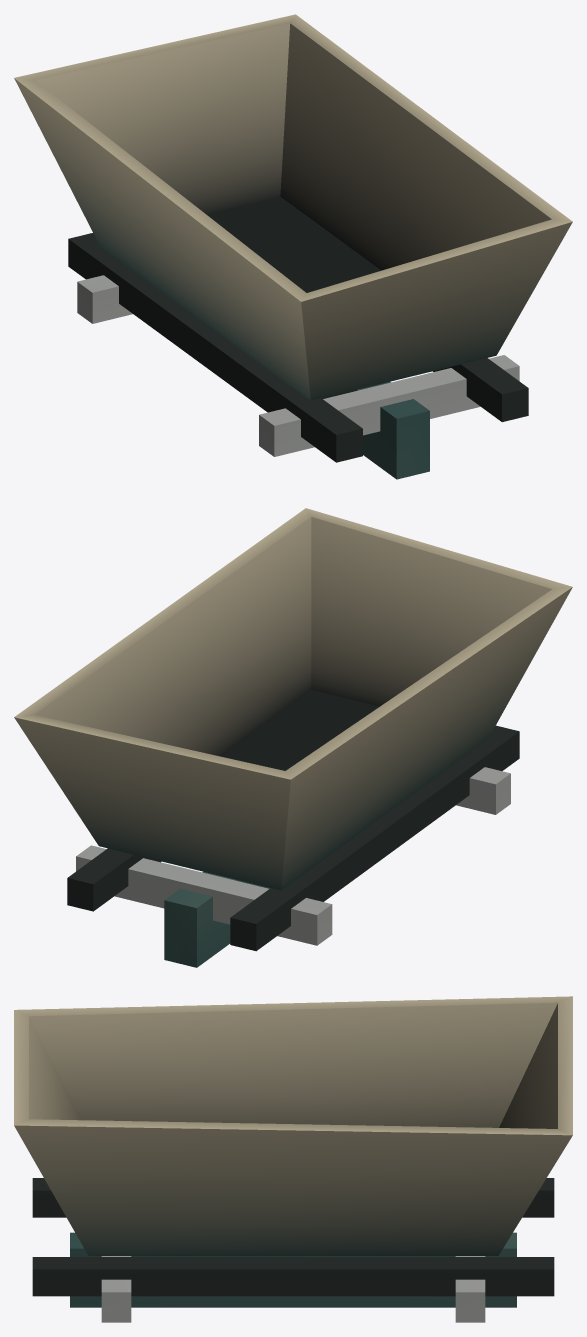
Rendered from cart_body.glb.
3 views of the same model, one above another, from view 1: azimuth 30°, elevation 25°; view 2: azimuth 150°, elevation 25°; view 3: azimuth 270°, elevation 25° (orthographic). The views are drawn at different scales.
Parts seen in each view (by area): view 1: Hopper; view 2: Hopper; view 3: Hopper.
Part boxes in pixels (box(x1,y1,x2,y2)): Hopper: box(14, 14, 572, 479); Hopper: box(14, 508, 572, 967); Hopper: box(14, 996, 572, 1322).
Size of the model in its own units: 1.7 by 1.4 by 3.
